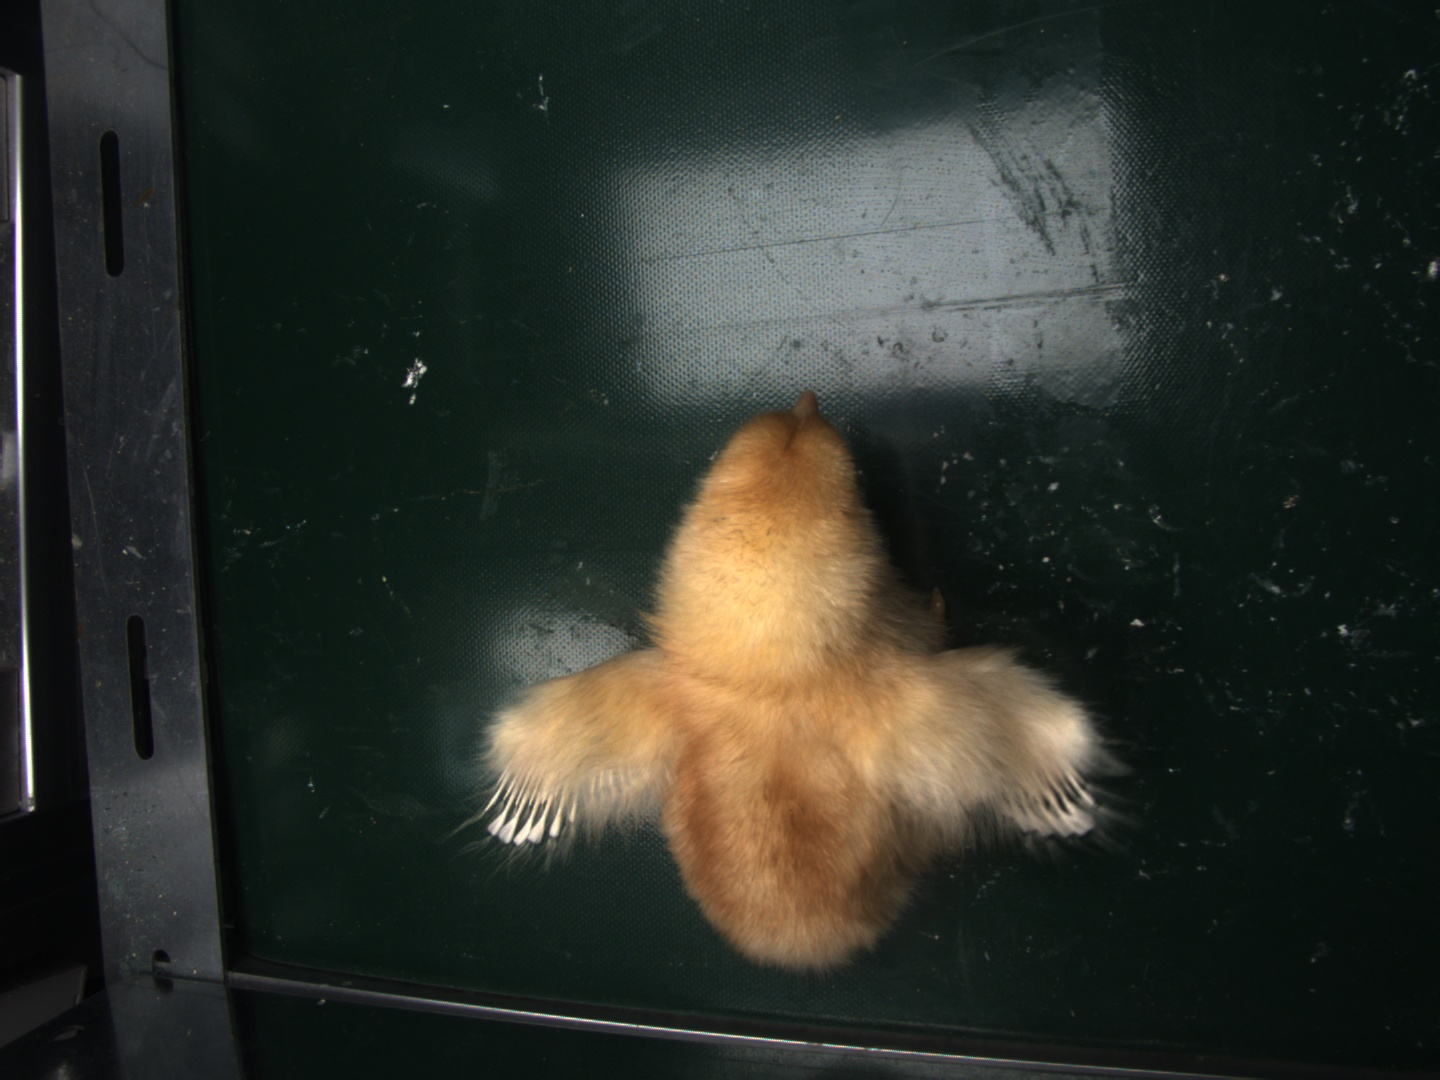female: (488, 773, 575, 833)
